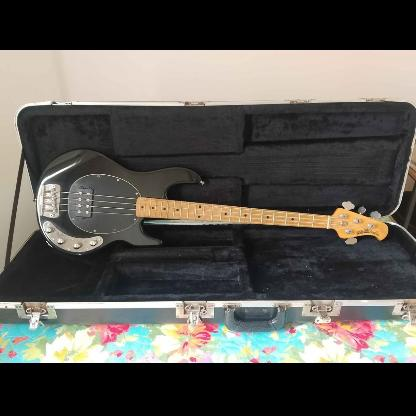bass: (33, 148, 389, 256)
